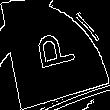P_W: (31, 31, 79, 79)
